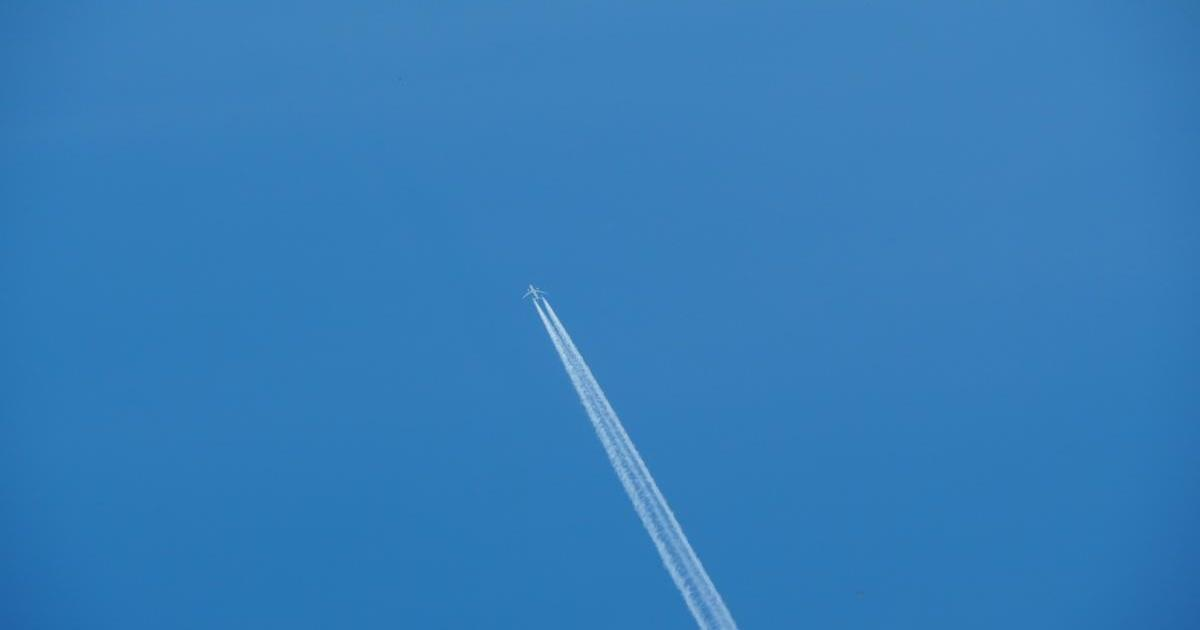Plane: (451, 265, 735, 608)
